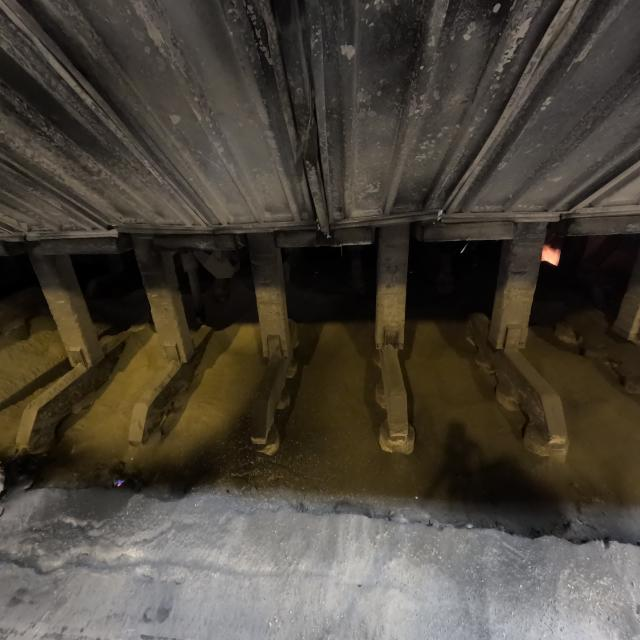Redspot: (118, 482, 122, 486)
